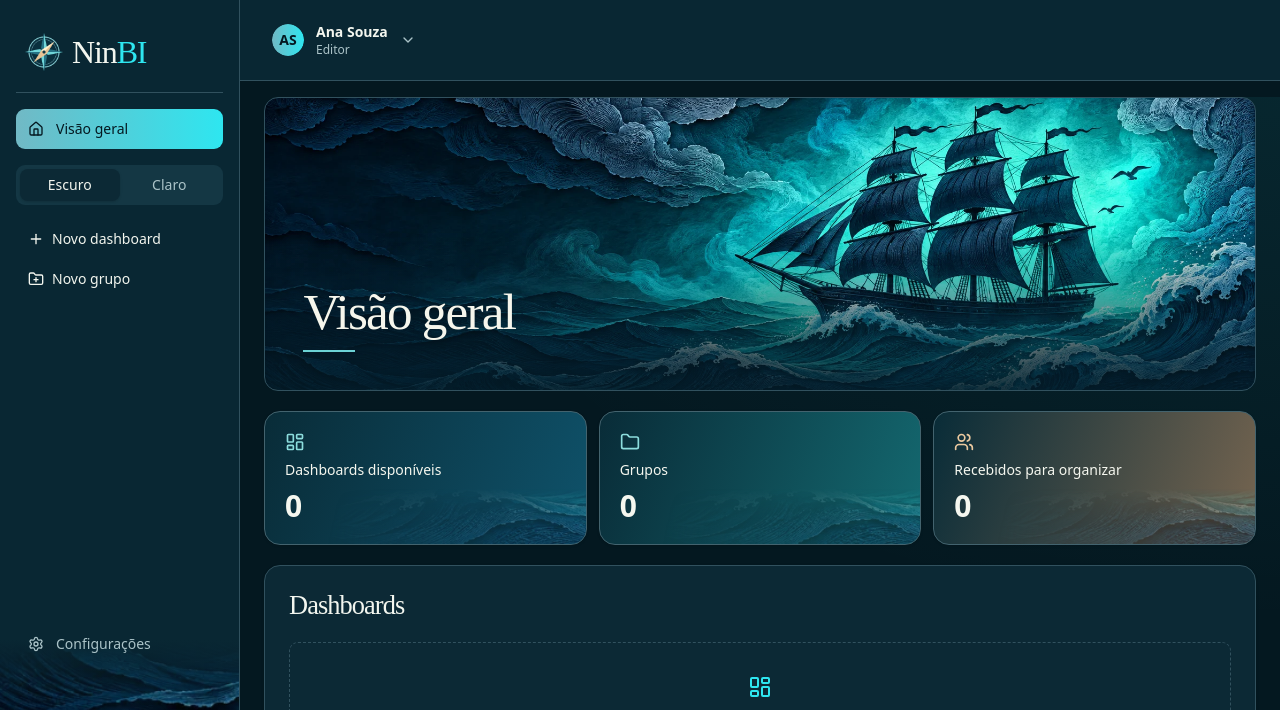
it: Descrever para a IA › GEN-01 Novo dashboard oferece Descrever para a IA com Nome, Conexão e Descrição
This screenshot has width=1280, height=710.
Click the button "Novo dashboard" at coordinates (120, 239), box x1=16 y1=221 x2=223 y2=257
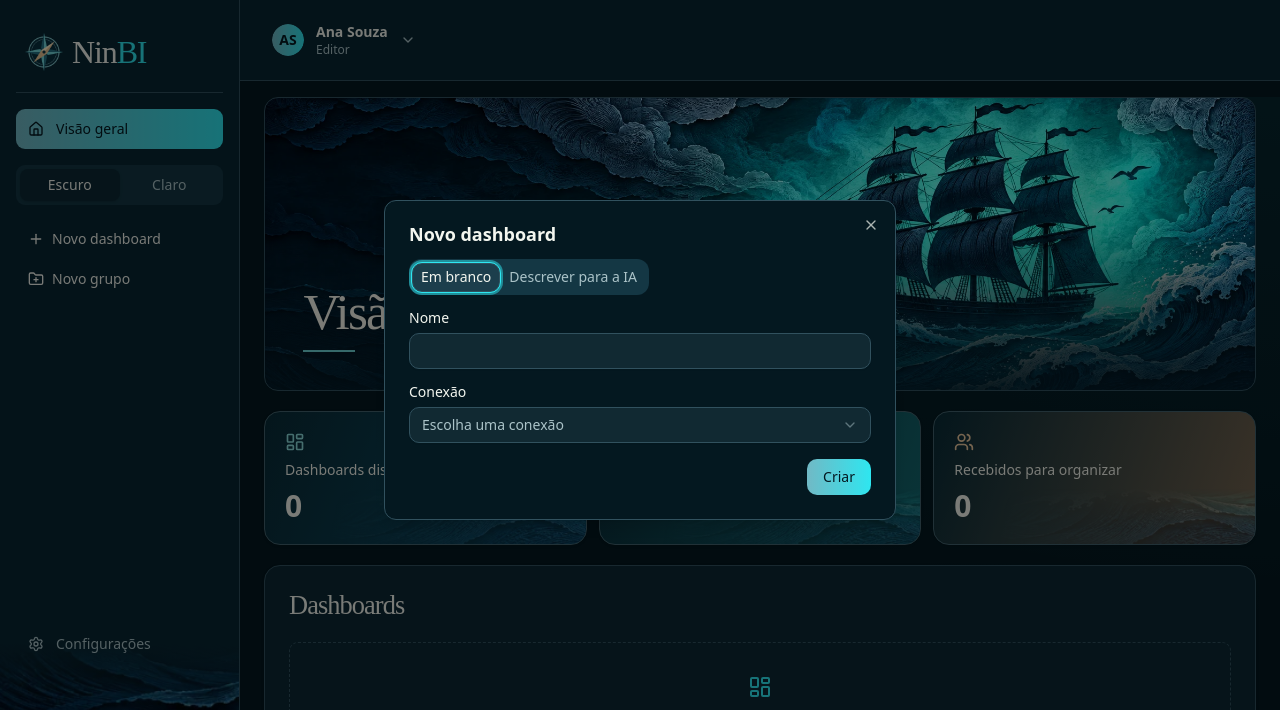
Now the tab "Em branco" is shown, box x1=412 y1=262 x2=500 y2=292
Now the field labelled "Nome" is shown, box x1=409 y1=333 x2=871 y2=369
Now the dropdown labelled "conexão" is shown, box x1=409 y1=407 x2=871 y2=443
Click the tab "Descrever para a IA" at coordinates (573, 277), box x1=500 y1=262 x2=646 y2=292
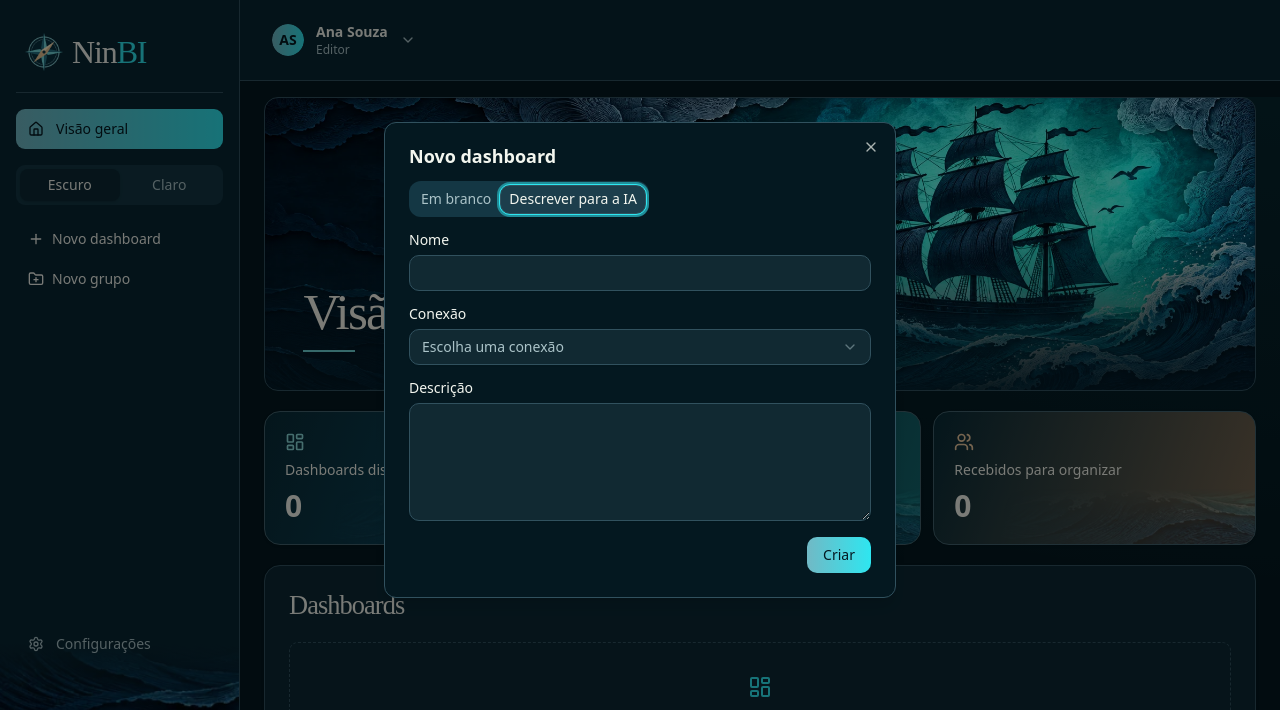
Now the field labelled "Nome" is shown, box x1=409 y1=255 x2=871 y2=291
Now the dropdown labelled "conexão" is shown, box x1=409 y1=329 x2=871 y2=365
Now the text box labelled "Descrição" is shown, box x1=409 y1=403 x2=871 y2=521
